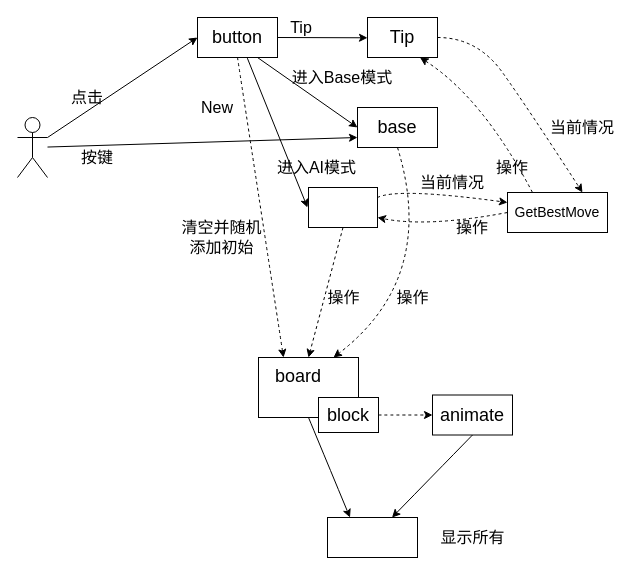
Image size: 635x575. Some labels were removed from this diagram. The shapes that lost their labels are listed below. From the top down, each one's centre as x and y in pixels, then its label:
At pixel 32 147: "Actor".
At pixel 343 207: "AI".
At pixel 372 537: "showALL".
